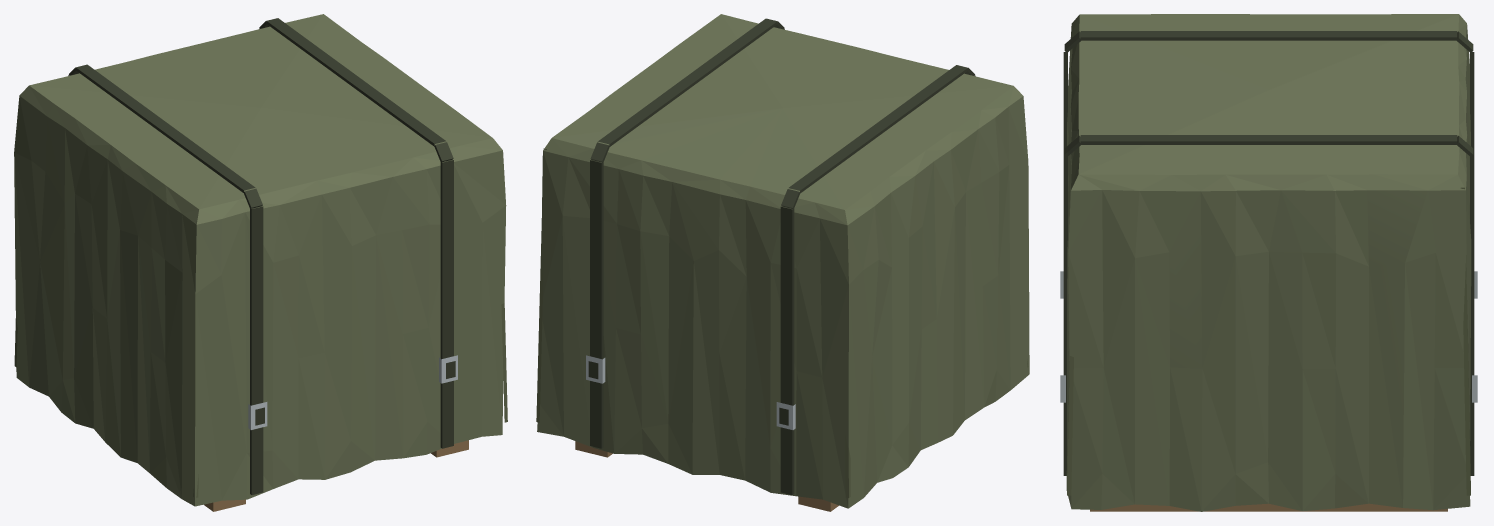
The model's file is 04_crate_canvas_large.glb.
The picture shows the model from 3 angles, left to right: view 1: azimuth 30°, elevation 25°; view 2: azimuth 150°, elevation 25°; view 3: azimuth 270°, elevation 25°; orthographic projection. The views are drawn at different scales.
Visible parts, largest first — view 1: 02_crate_canvas_large; view 2: 02_crate_canvas_large; view 3: 02_crate_canvas_large.
Part boxes in pixels (x1=…): 02_crate_canvas_large: x1=14, y1=14, x2=507, y2=511; 02_crate_canvas_large: x1=536, y1=14, x2=1029, y2=511; 02_crate_canvas_large: x1=1060, y1=14, x2=1477, y2=511.
Size of the model in its own units: 1.74 by 1.69 by 1.81.
